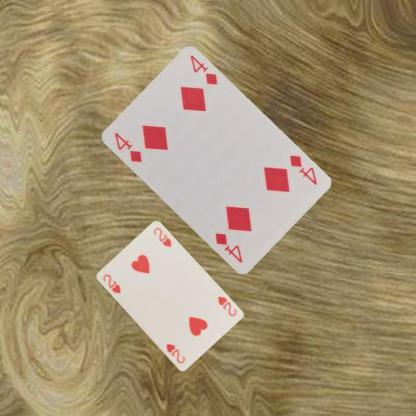2h: (215, 294, 237, 317), (100, 272, 122, 294)
4d: (286, 152, 318, 187), (111, 130, 143, 164)
